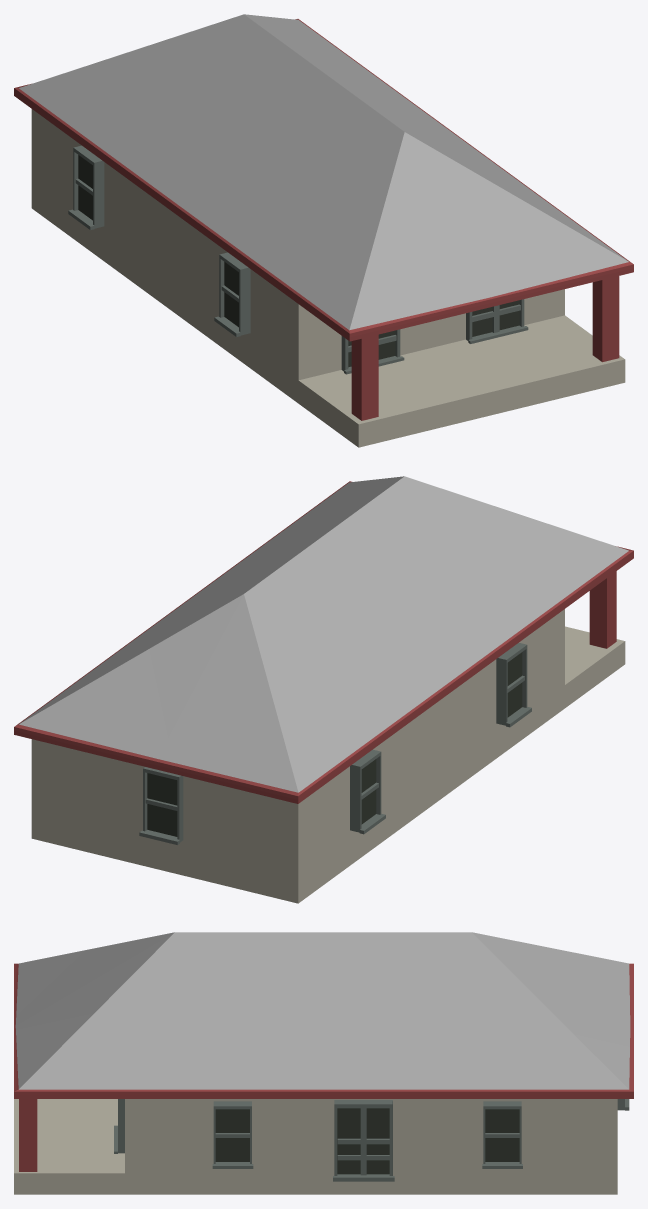
File: flower223.fbx
3 renders of one model, top to bottom at view 1: azimuth 30°, elevation 25°; view 2: azimuth 150°, elevation 25°; view 3: azimuth 270°, elevation 25°, orthographic. The views are drawn at different scales.
Visible parts, largest first — view 1: pCube13, pCube12, polySurface690, polySurface689, pCube15, pCube14, polySurface684, polySurface685; view 2: pCube13, pCube12, polySurface691, polySurface690, polySurface689, pCube14; view 3: pCube13, pCube12, polySurface686, polySurface687, polySurface688, pCube15, polySurface684.
Part boxes in pixels (bbox=[...]): pCube13: bbox=[14, 14, 633, 341]; pCube12: bbox=[31, 109, 625, 447]; polySurface690: bbox=[214, 252, 250, 336]; polySurface689: bbox=[68, 145, 104, 229]; pCube15: bbox=[592, 276, 619, 362]; pCube14: bbox=[351, 334, 378, 420]; polySurface684: bbox=[466, 299, 528, 343]; polySurface685: bbox=[341, 329, 404, 374]; pCube13: bbox=[14, 476, 633, 803]; pCube12: bbox=[31, 609, 625, 903]; polySurface691: bbox=[139, 767, 183, 844]; polySurface690: bbox=[496, 643, 531, 727]; polySurface689: bbox=[350, 749, 385, 834]; pCube14: bbox=[589, 571, 616, 648]; pCube13: bbox=[14, 932, 633, 1098]; pCube12: bbox=[14, 1099, 617, 1194]; polySurface686: bbox=[333, 1100, 394, 1181]; polySurface687: bbox=[212, 1101, 253, 1168]; polySurface688: bbox=[482, 1101, 522, 1168]; pCube15: bbox=[19, 1099, 37, 1171]; polySurface684: bbox=[114, 1099, 124, 1153].
Size of the model in its own units: 188 by 133 by 368.
